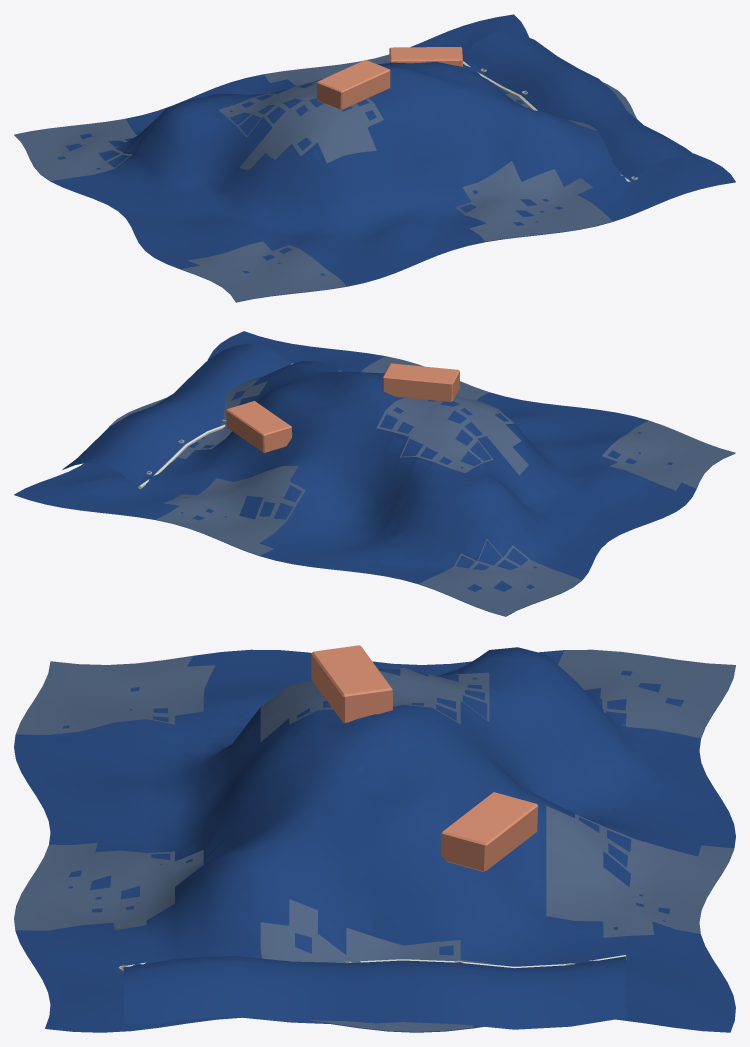
File: tarp_pile.glb
3 views of the same model, one above another, from view 1: azimuth 30°, elevation 25°; view 2: azimuth 150°, elevation 25°; view 3: azimuth 270°, elevation 25° (orthographic). The views are drawn at different scales.
Visible parts, largest first — view 1: teil1, teil0, teil4; view 2: teil1, teil0, teil4; view 3: teil1, teil0, teil4.
Boxes of the visible parts, x1,y1,x2,y2 form: teil1: (14, 14, 735, 302); teil0: (14, 54, 637, 301); teil4: (317, 46, 462, 110); teil1: (14, 331, 735, 616); teil0: (109, 356, 735, 616); teil4: (226, 363, 459, 453); teil1: (14, 647, 735, 1032); teil0: (14, 649, 735, 1031); teil4: (311, 645, 538, 871).
Bounding box in the file's own units: 1.98 × 0.3722 × 1.58.
